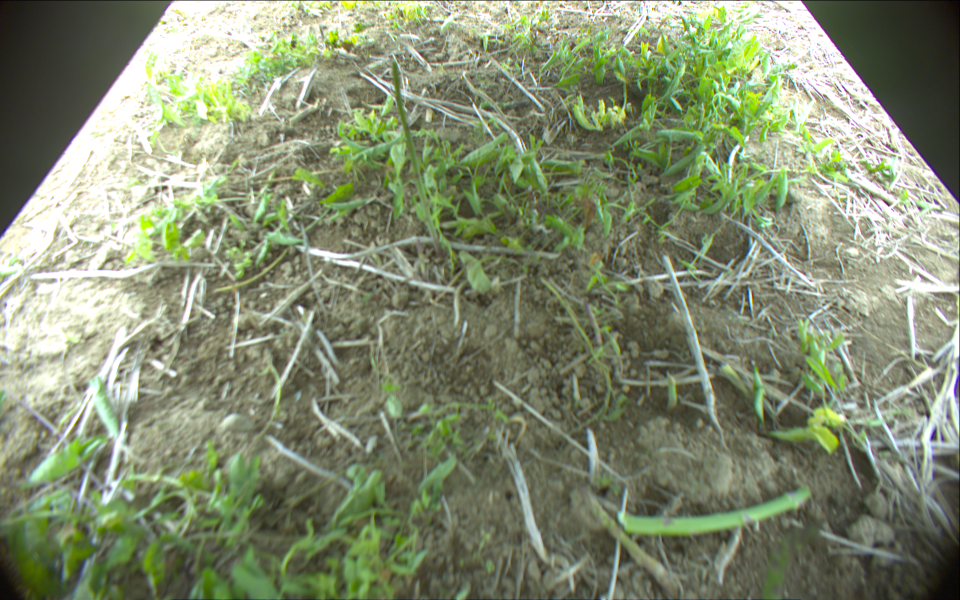aspa: (390, 59, 442, 254), (619, 484, 809, 534)
